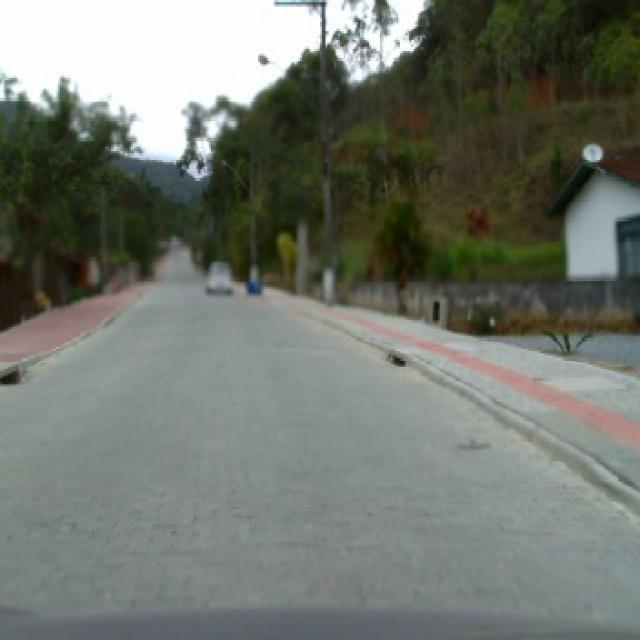Poth-hole: (0, 364, 20, 384), (389, 349, 406, 367)
